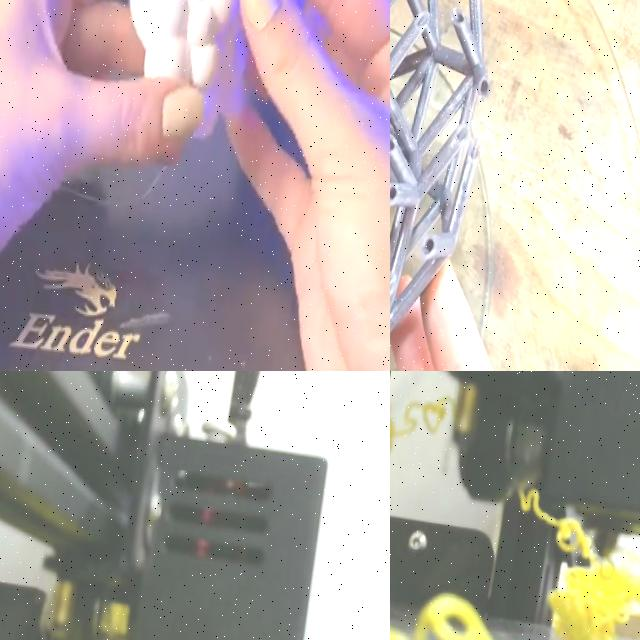spaghetti: (517, 489, 640, 640), (390, 595, 494, 640)
